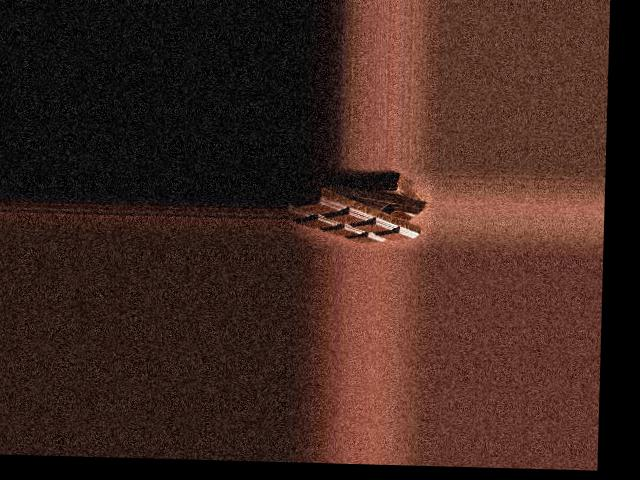chocolate: (290, 179, 425, 243)
